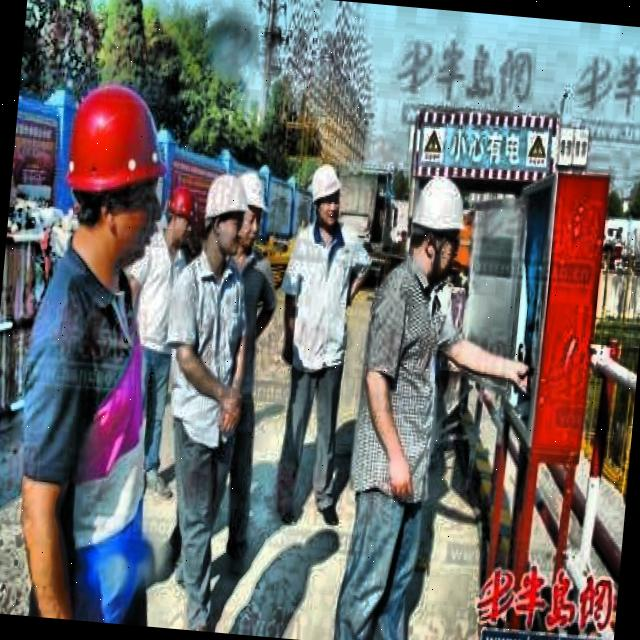helmet: (59, 76, 172, 260), (405, 172, 468, 278), (198, 169, 250, 261), (232, 168, 270, 252), (158, 181, 200, 254), (309, 157, 344, 229)
